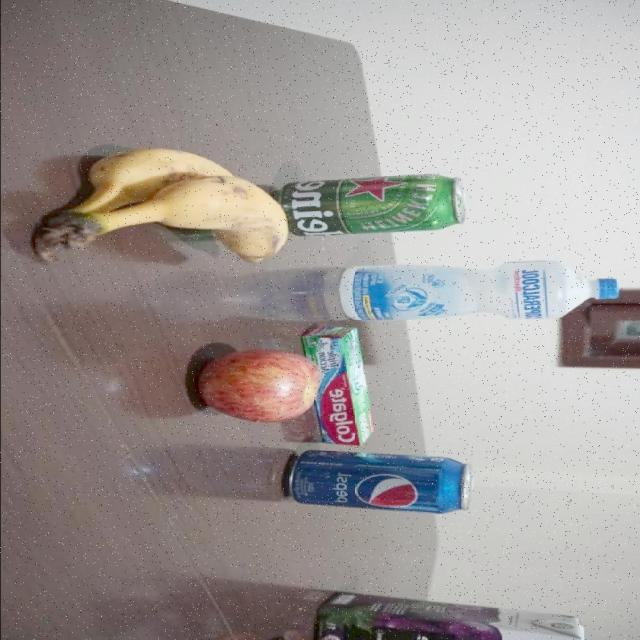AlcoholBottle: (336, 261, 618, 322)
Banana: (29, 146, 286, 262)
BeerCan: (271, 172, 466, 238)
SodaCan: (280, 449, 472, 513)
Toothpaste: (299, 324, 376, 447)
